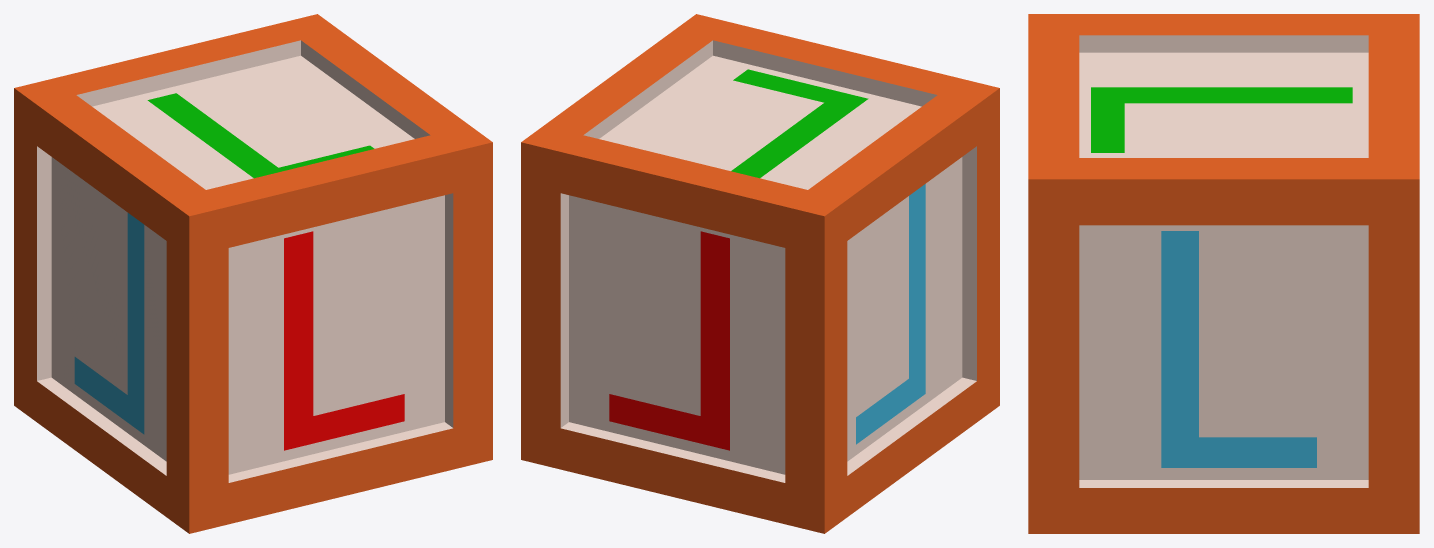
The model's file is Prop_KidsCube_L.fbx.
3 views of the same model, side by side, from view 1: azimuth 30°, elevation 25°; view 2: azimuth 150°, elevation 25°; view 3: azimuth 270°, elevation 25° (orthographic). The views are drawn at different scales.
Visible parts, largest first — view 1: Prop_KidsCube_L; view 2: Prop_KidsCube_L; view 3: Prop_KidsCube_L.
Part boxes in pixels (bbox=[...]): Prop_KidsCube_L: bbox=[14, 14, 492, 533]; Prop_KidsCube_L: bbox=[521, 14, 999, 533]; Prop_KidsCube_L: bbox=[1028, 14, 1419, 533].
Bounding box in the file's own units: 20.93 × 20.93 × 20.93.
